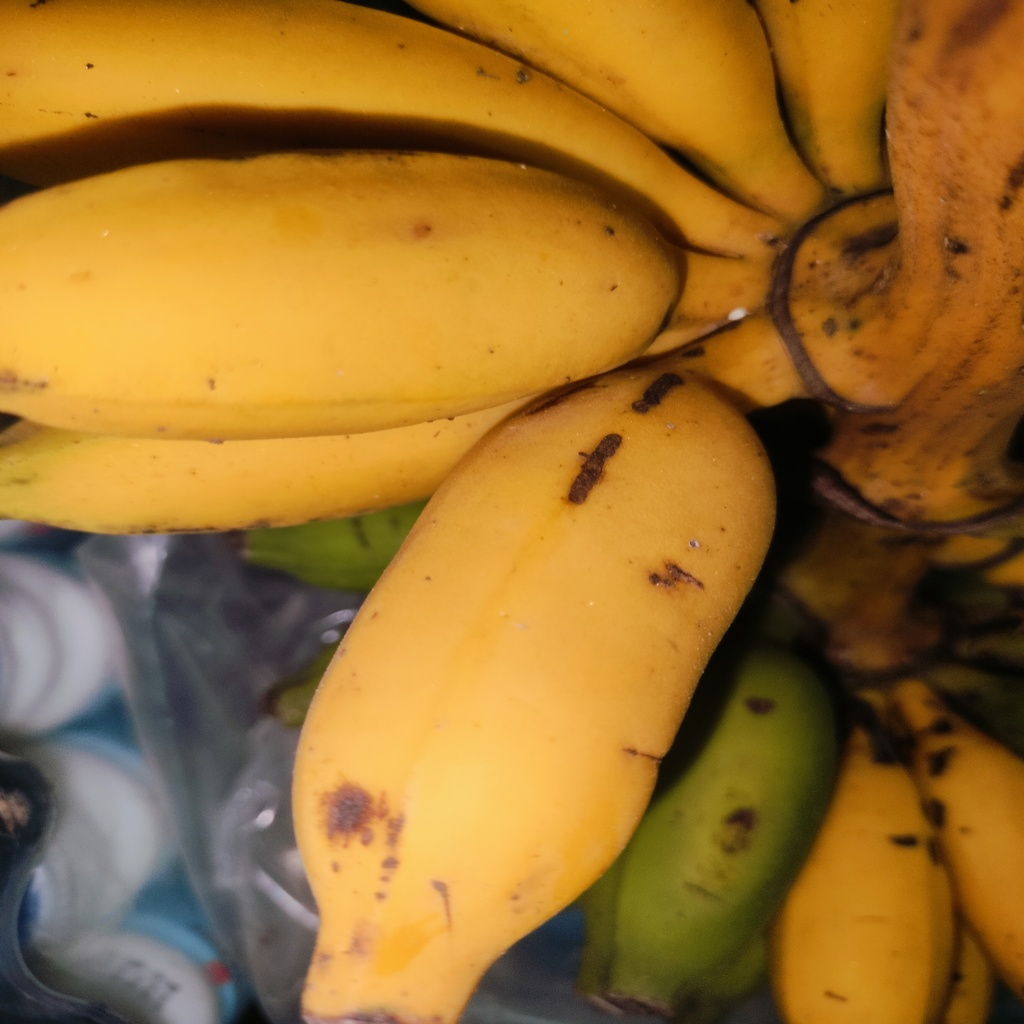unhealthy: (291, 369, 778, 1022), (1, 148, 671, 444)
